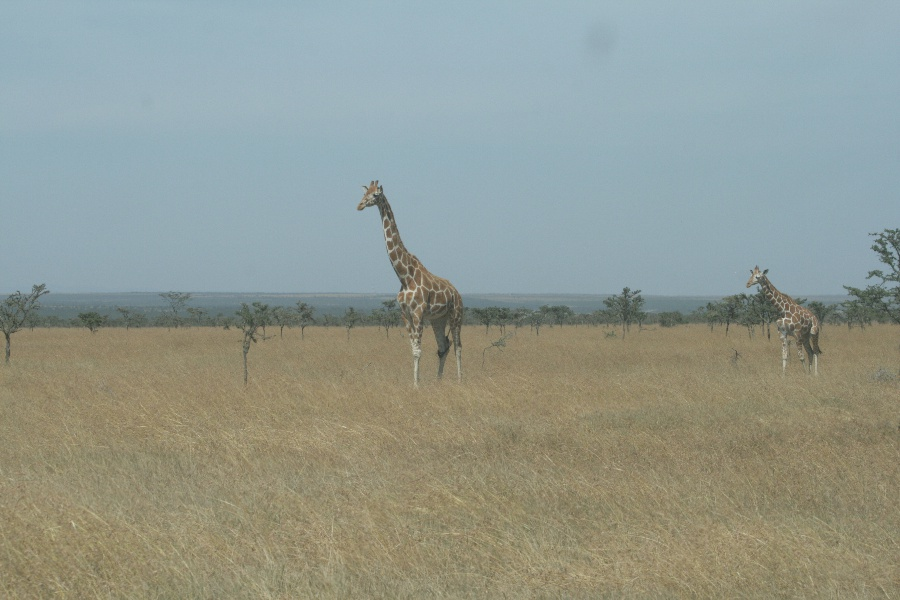giraffe: (352, 172, 474, 393), (740, 256, 824, 377)
